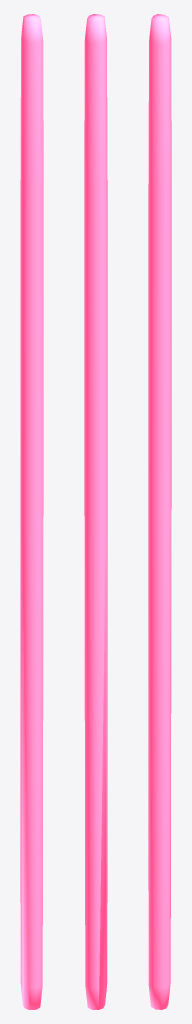
File: Laser with shape key.fbx
3 renders of one model, left to right at view 1: azimuth 30°, elevation 25°; view 2: azimuth 150°, elevation 25°; view 3: azimuth 330°, elevation 25°, orthographic.
Visible parts, largest first — view 1: Cube.007; view 2: Cube.007; view 3: Cube.007.
Boxes of the visible parts, x1,y1,x2,y2 form: Cube.007: (20, 14, 43, 1009); Cube.007: (84, 14, 107, 1009); Cube.007: (148, 14, 171, 1009).
Size of the model in its own units: 5.96 by 277 by 5.91.
